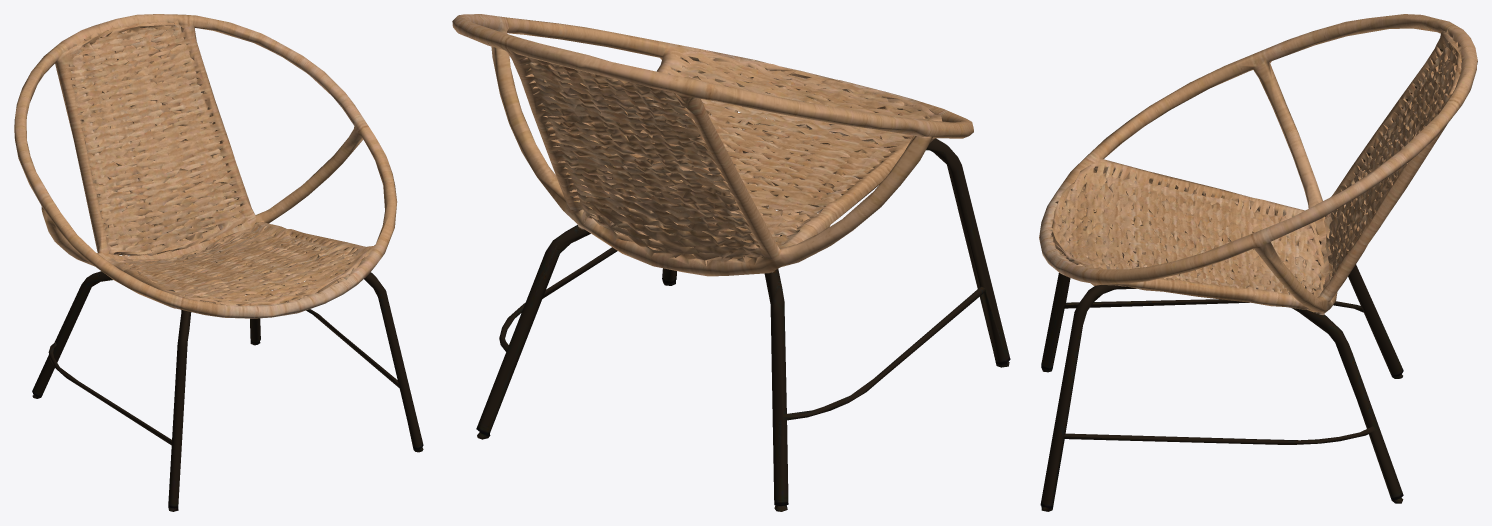
3 renders of one model, left to right at view 1: azimuth 30°, elevation 25°; view 2: azimuth 150°, elevation 25°; view 3: azimuth 270°, elevation 25°, orthographic. The views are drawn at different scales.
Parts seen in each view (by area): view 1: ASY_ART_30555098_S01_NV01; view 2: ASY_ART_30555098_S01_NV01; view 3: ASY_ART_30555098_S01_NV01.
Boxes of the visible parts, bbox=[...] form: ASY_ART_30555098_S01_NV01: bbox=[14, 14, 423, 511]; ASY_ART_30555098_S01_NV01: bbox=[452, 14, 1010, 511]; ASY_ART_30555098_S01_NV01: bbox=[1039, 14, 1477, 511].
Bounding box in the file's own units: 0.6916 × 0.6684 × 0.6904.
1 material, 1 textured.
